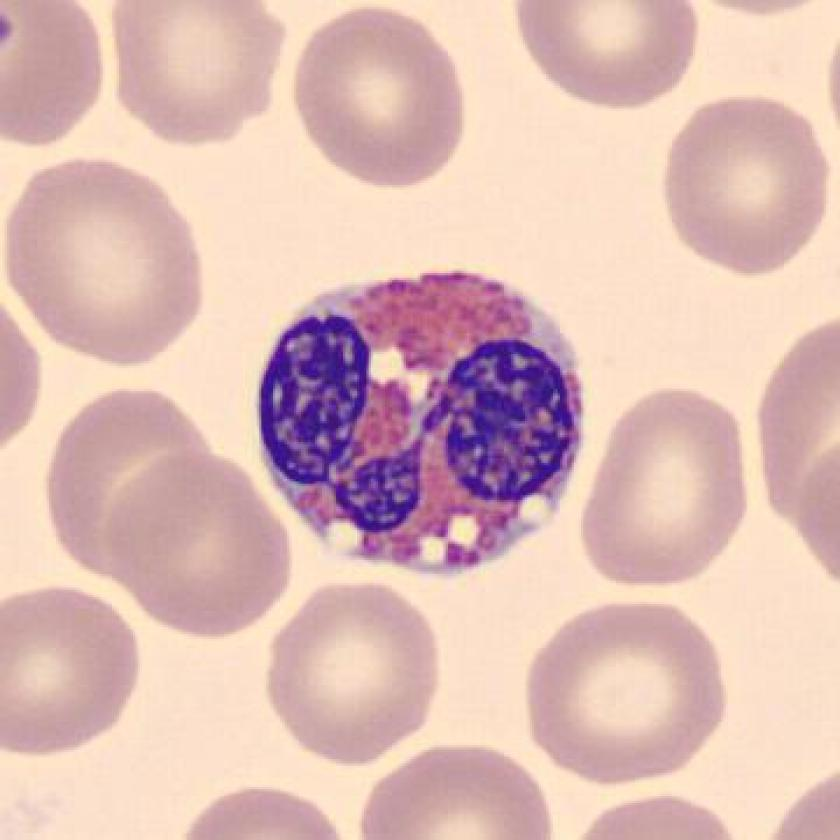eosinophil: (244, 256, 601, 594)
